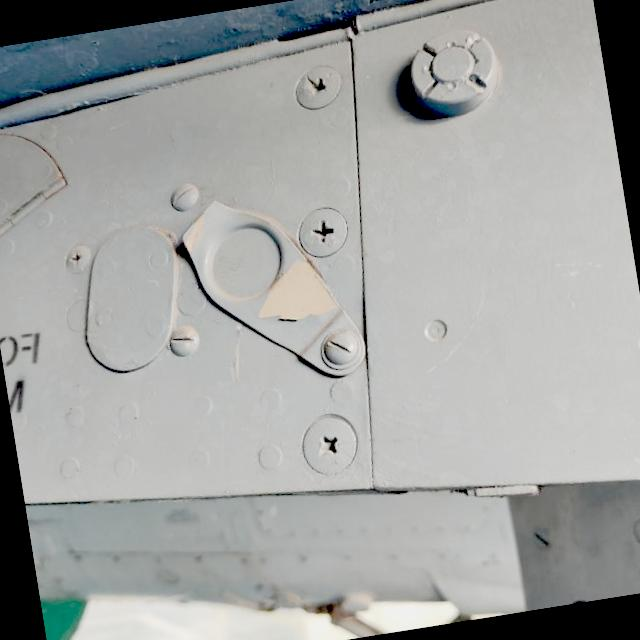paint-off: (234, 237, 354, 342)
